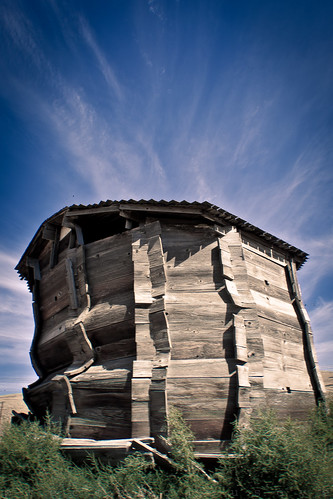building: (26, 203, 321, 460)
sky: (1, 1, 324, 207)
